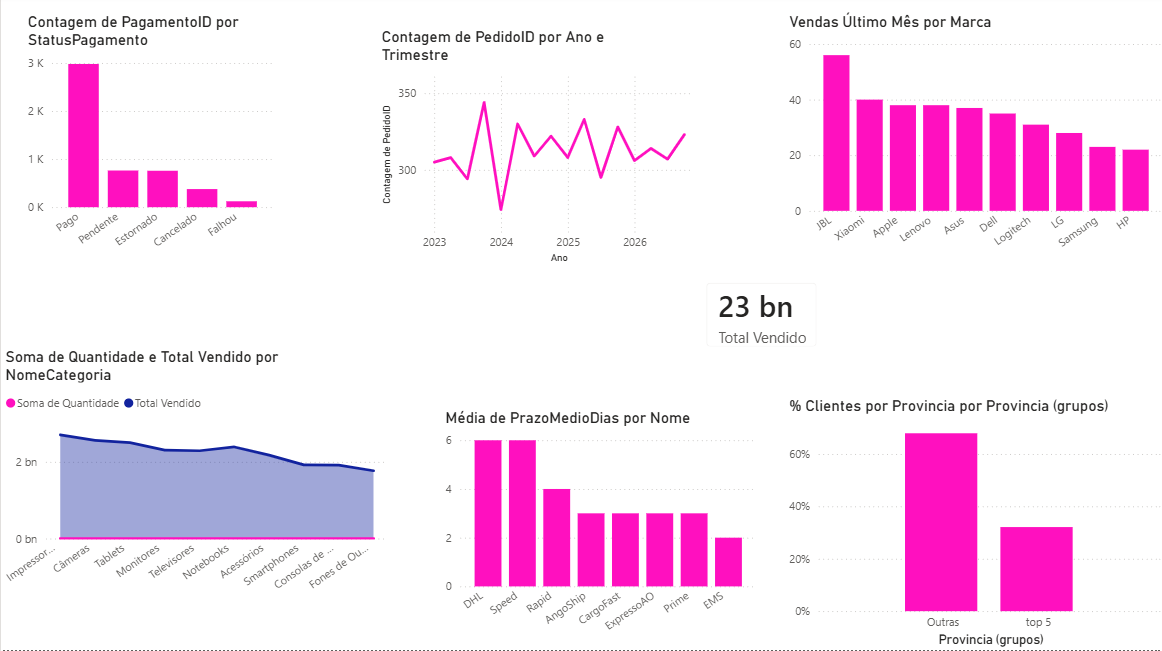

This screenshot's page, from the dashboard's own definition file:
{"tool":"powerbi","page":{"name":"Página 1","canvas":[1280,720],"ordinal":0},"visuals":[{"type":"clusteredColumnChart","fields":{"Category":["Pagamentos.StatusPagamento"],"Y":["CountNonNull(Pagamentos.PagamentoID)"]},"box":[24.7,19.2,279.9,279.9],"z":0},{"type":"cardVisual","fields":{"Data":["Categorias.Total Vendido"]},"box":[757.5,299.1,155.1,104.3],"z":1000},{"type":"stackedAreaChart","fields":{"Category":["Categorias.NomeCategoria"],"Y":["Sum(ItensPedido.Quantidade)","Categorias.Total Vendido"]},"box":[0,387,429.5,279.9],"z":2000},{"type":"lineStackedColumnComboChart","fields":{"Category":["Produtos.Marca"],"Y":["ItensPedido.Vendas Último Mês"]},"box":[860.4,19.2,419.9,279.9],"z":3000},{"type":"columnChart","fields":{"Category":["Clientes.Provincia (grupos)"],"Y":["Clientes.% Clientes por Provincia"]},"box":[860.4,440.5,419.9,279.9],"z":4000},{"type":"lineChart","fields":{"Y":["CountNonNull(Pedidos.PedidoID)"],"Category":["Pedidos.DataPedido.Variação.Hierarquia de Datas.Ano","Pedidos.DataPedido.Variação.Hierarquia de Datas.Trimestre"]},"box":[413,35.7,355.4,263.5],"z":5000},{"type":"clusteredColumnChart","fields":{"Category":["Transportadoras.Nome"],"Y":["Avg(Transportadoras.PrazoMedioDias)"]},"box":[483,454.2,351.3,266.2],"z":6000}]}

Visuals, with their boxes in screenshot pixels (x1, y1, x2, y2), scaled from the page's 1280x720 canvas onto the 1162x651 screenshot:
clusteredColumnChart - Pagamentos.StatusPagamento x CountNonNull(Pagamentos.PagamentoID): box(22, 17, 277, 270)
cardVisual - Categorias.Total Vendido: box(688, 270, 828, 365)
stackedAreaChart - Categorias.NomeCategoria x Sum(ItensPedido.Quantidade): box(0, 350, 390, 603)
lineStackedColumnComboChart - Produtos.Marca x ItensPedido.Vendas Último Mês: box(781, 17, 1161, 270)
columnChart - Clientes.Provincia (grupos) x Clientes.% Clientes por Provincia: box(781, 398, 1161, 650)
lineChart - CountNonNull(Pedidos.PedidoID) x Pedidos.DataPedido.Variação.Hierarquia de Datas.Ano: box(375, 32, 698, 271)
clusteredColumnChart - Transportadoras.Nome x Avg(Transportadoras.PrazoMedioDias): box(438, 411, 757, 650)
